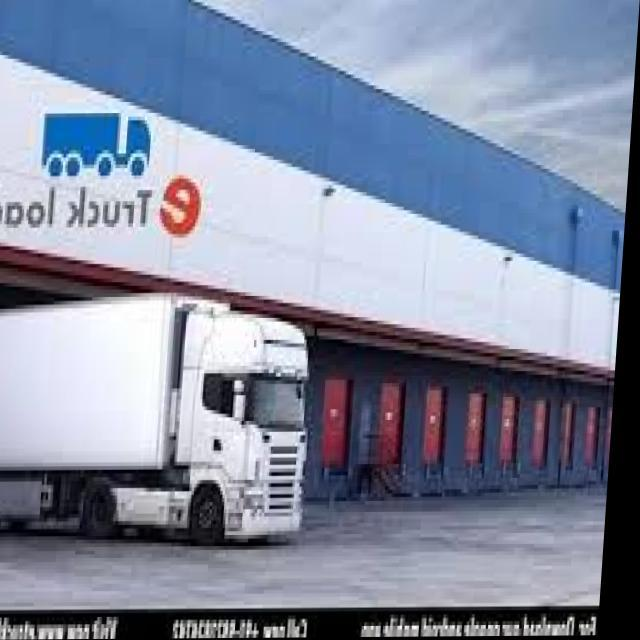covered: (0, 288, 327, 544)
